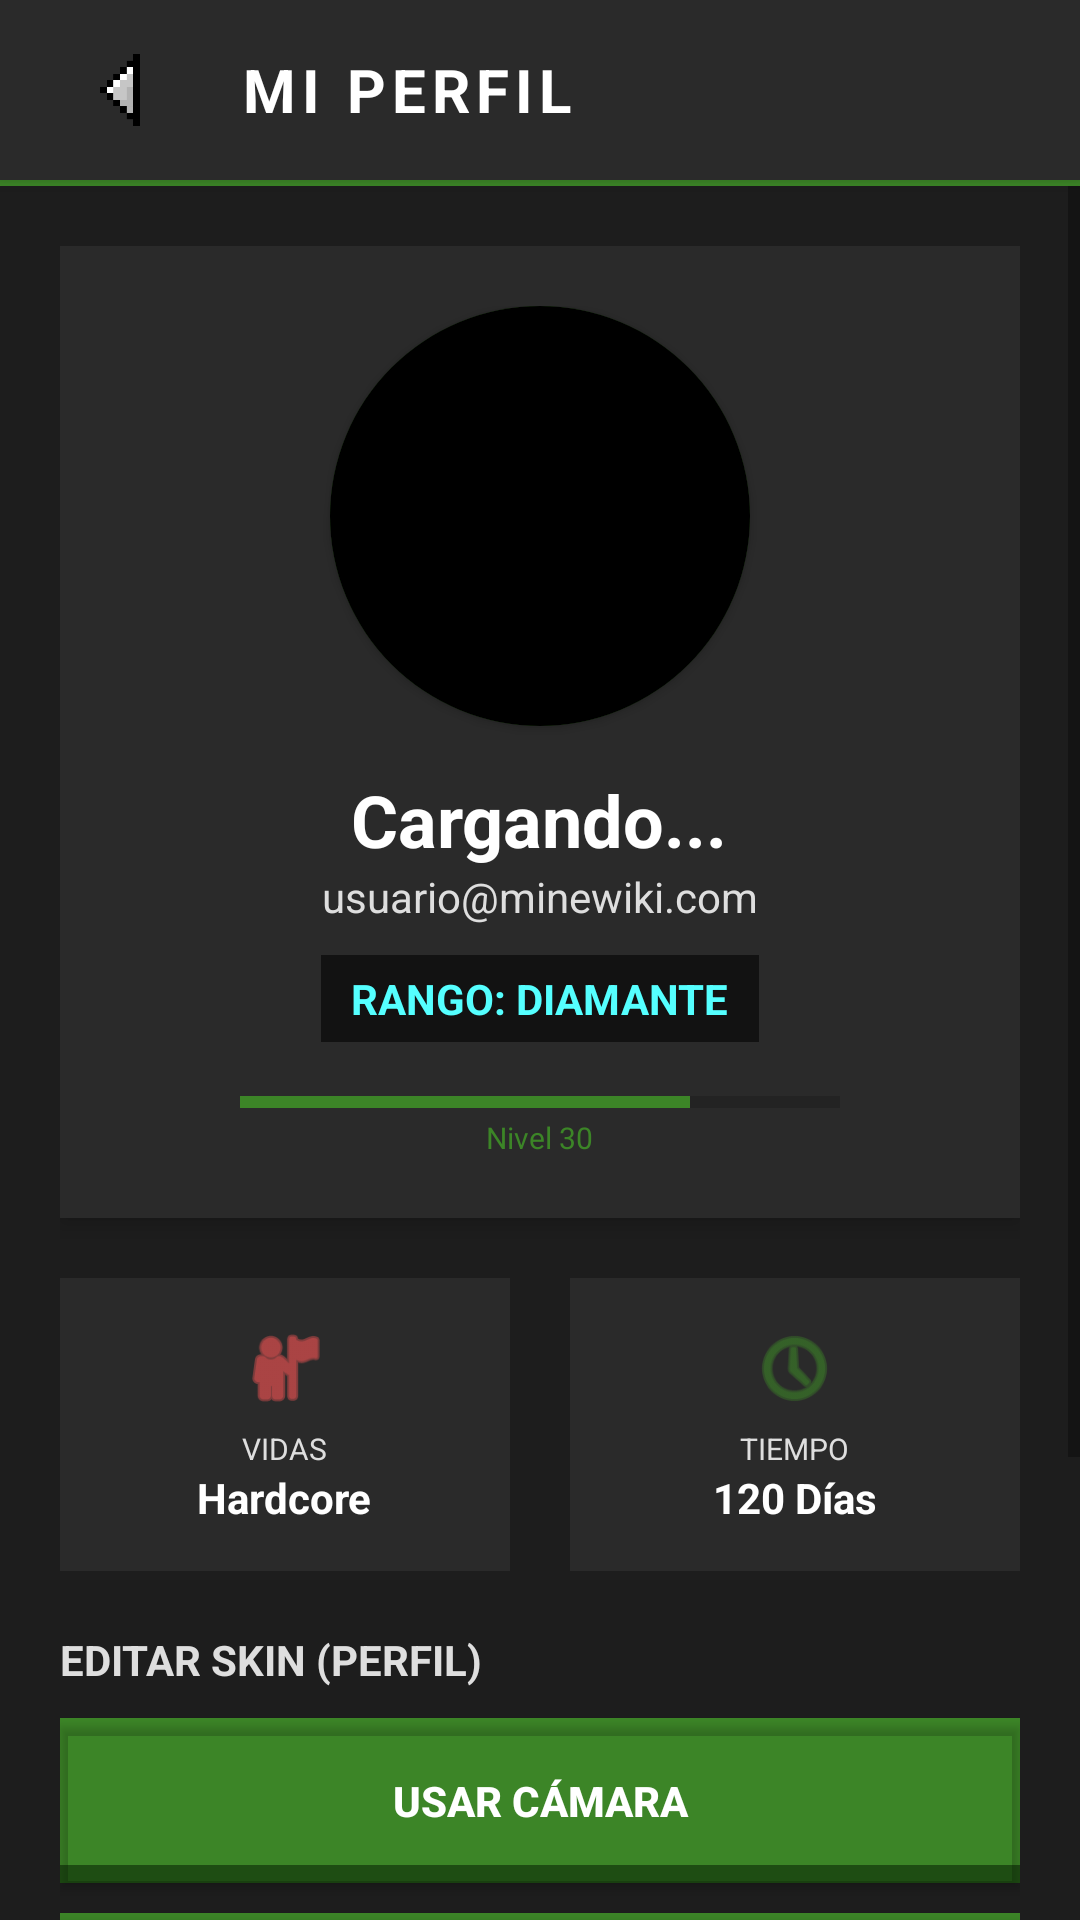

Locate icon controls on the screen. Image size 1080 x 1920, boxes as BBox(x1, y1, x2, y2).
recent history: BBox(762, 1336, 827, 1401)
Volver: BBox(100, 54, 140, 126)
